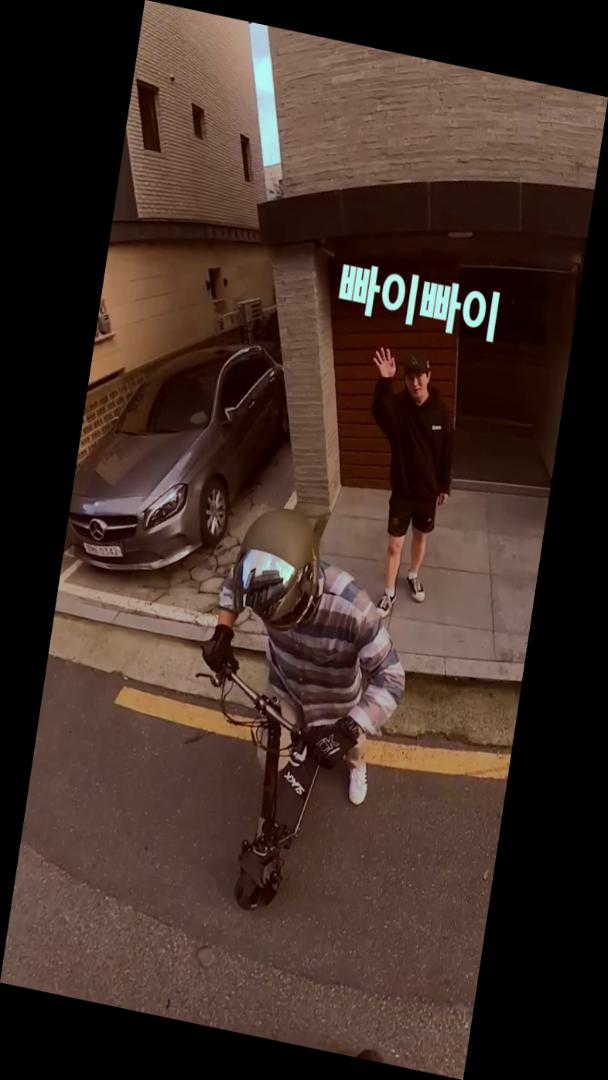helmet: (161, 493, 431, 938)
